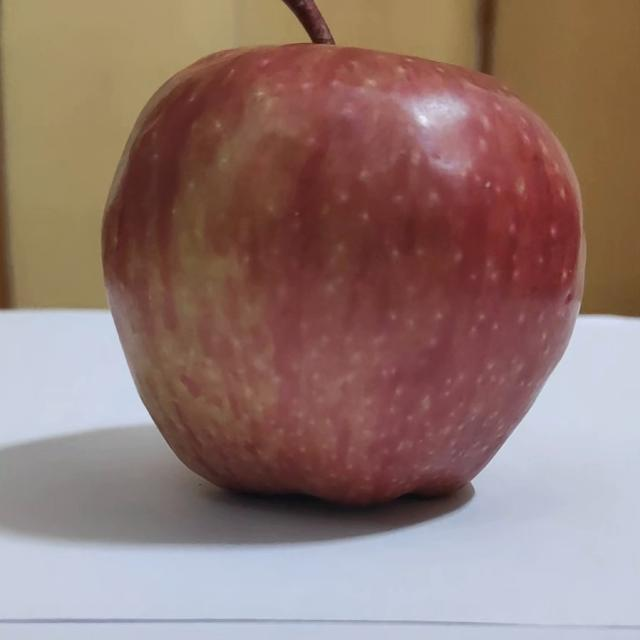apple: (93, 0, 584, 518)
